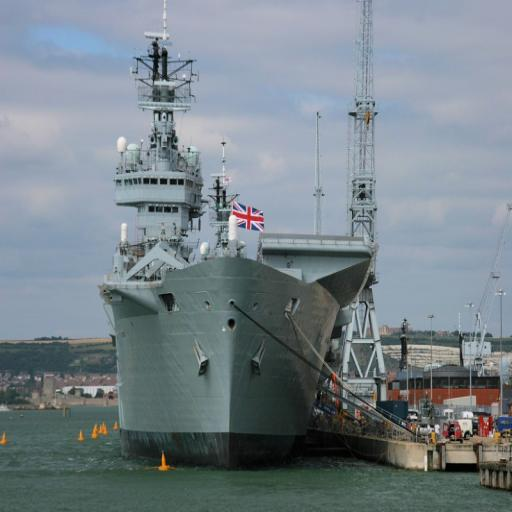Portanaves: (102, 2, 383, 470)
